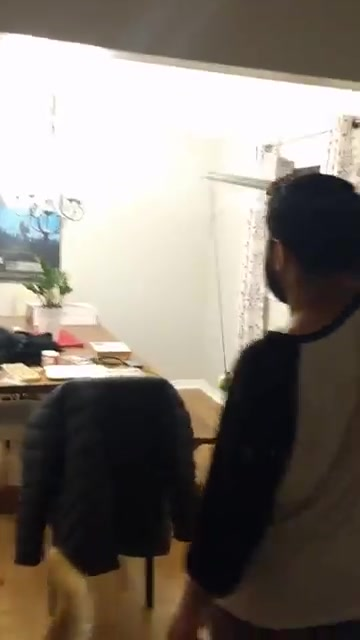tennis_ball: (217, 373, 237, 394)
